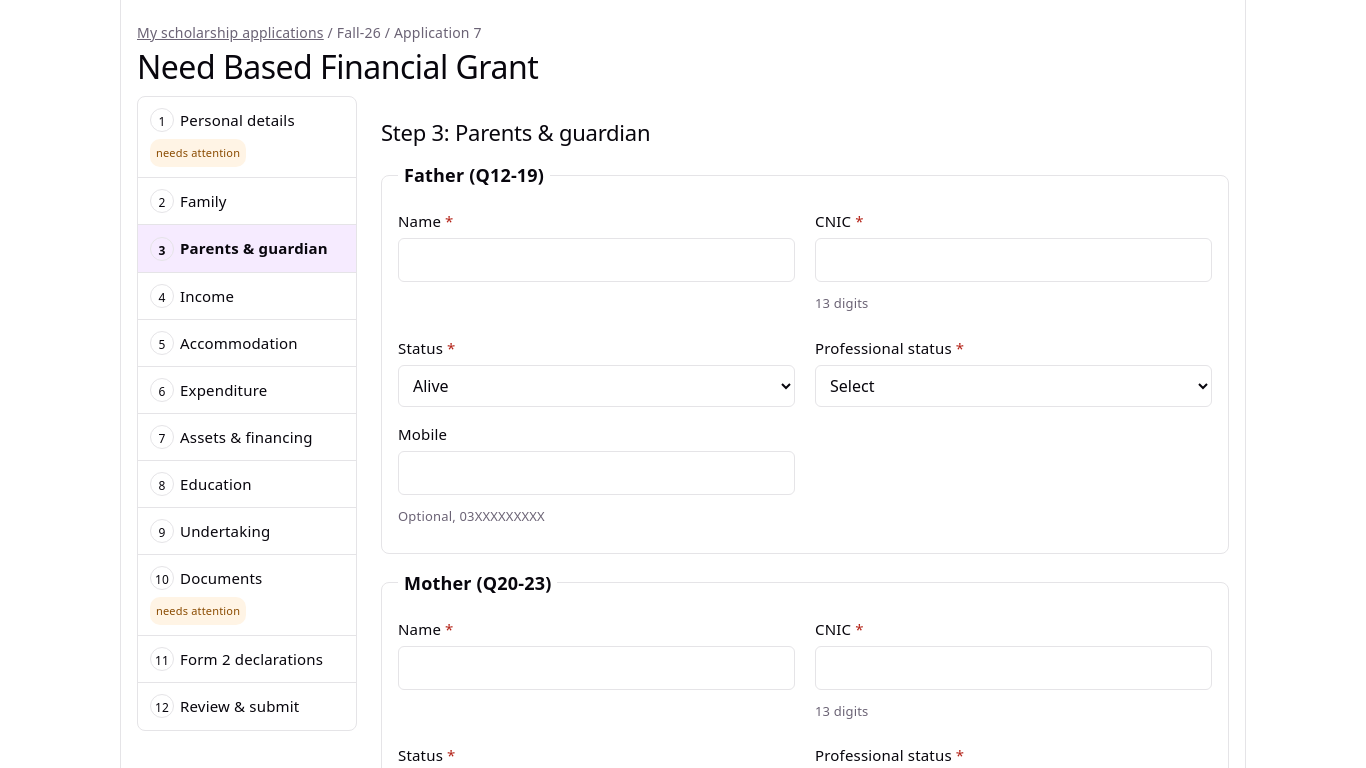
Test: parents: deceased father asks for a guardian and errors show under the right person
Select "Deceased" in the dropdown labelled "Status *" at (596, 386), box [398,365,795,407]
(page scrolled)
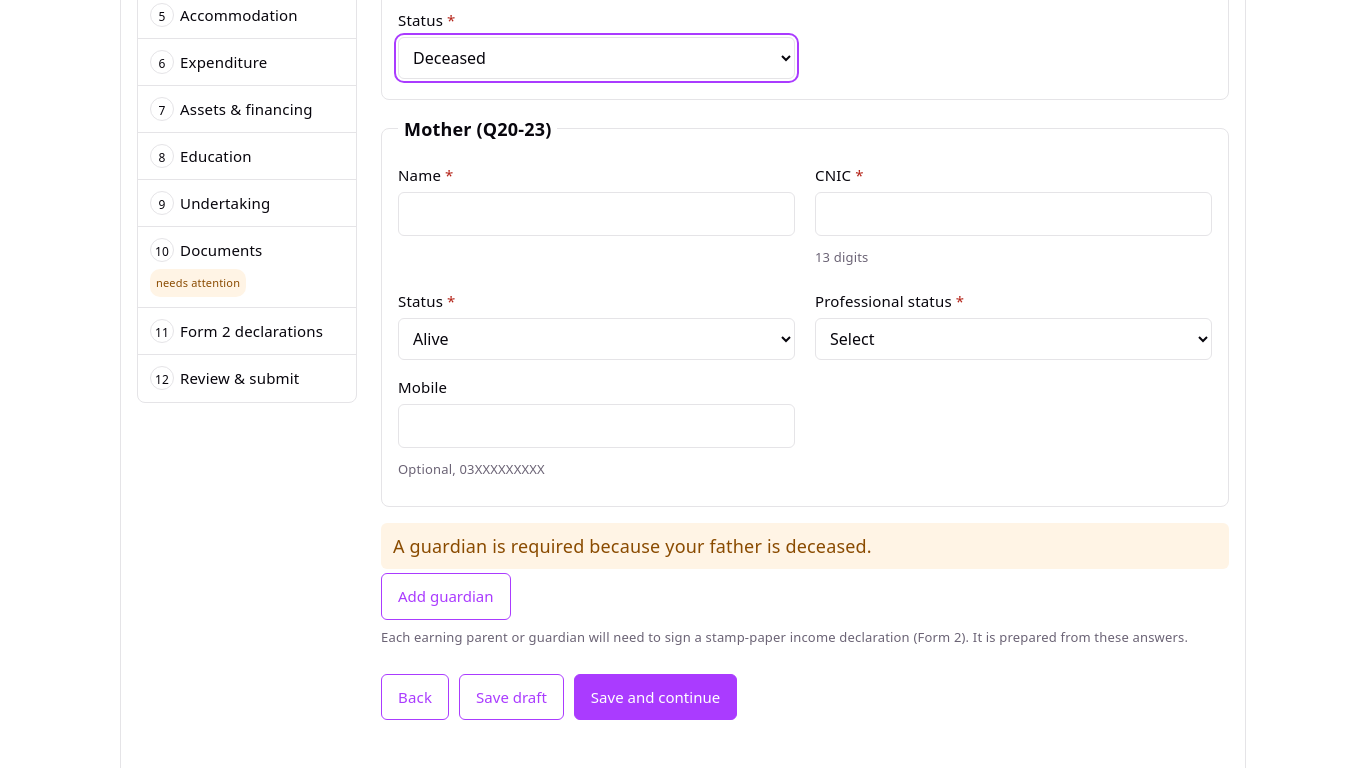
Expected: the text "A guardian is required because your father is deceased." is shown, [381,523,1229,570]
Click the button "Save draft".
click(512, 697)  # box [459,674,564,720]
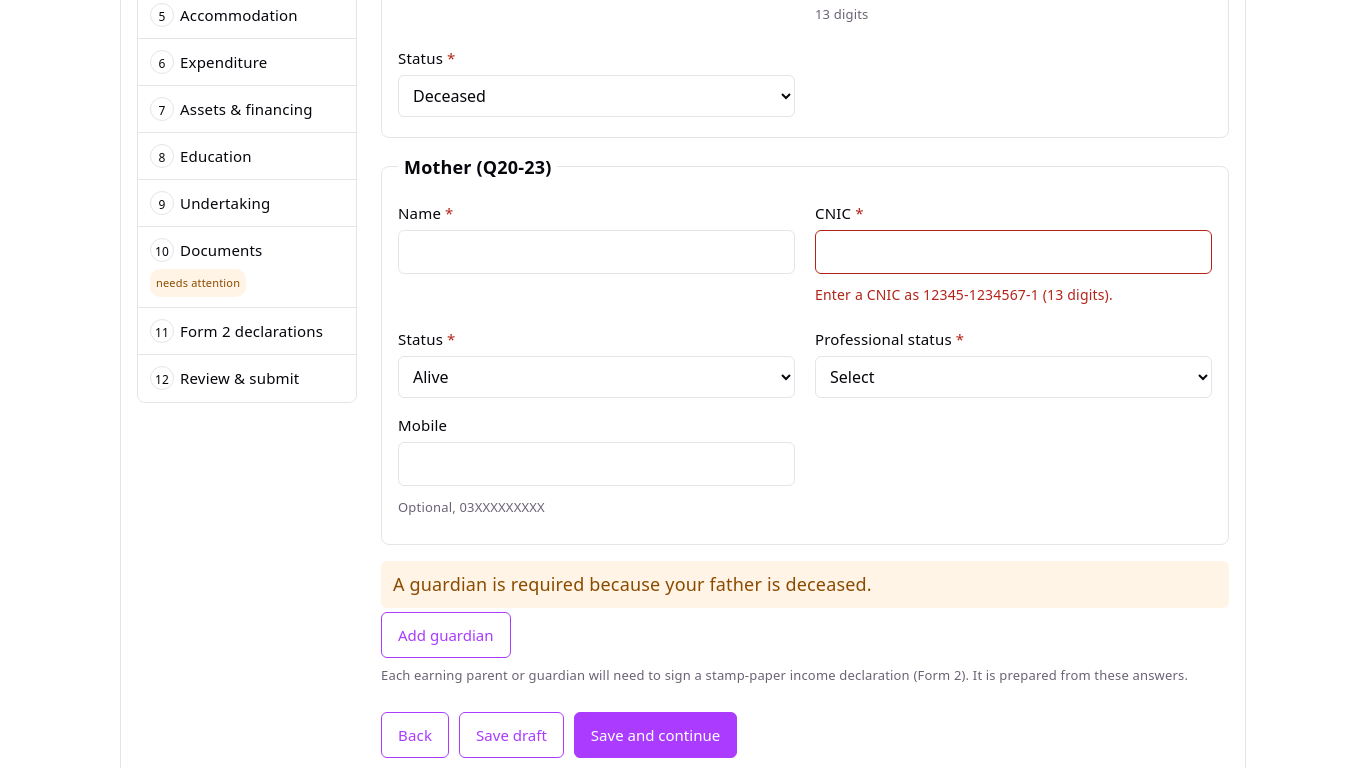
Expected: the text "Enter a CNIC as 12345-1234567-1 (13 digits)." is shown, [815,285,1113,304]
